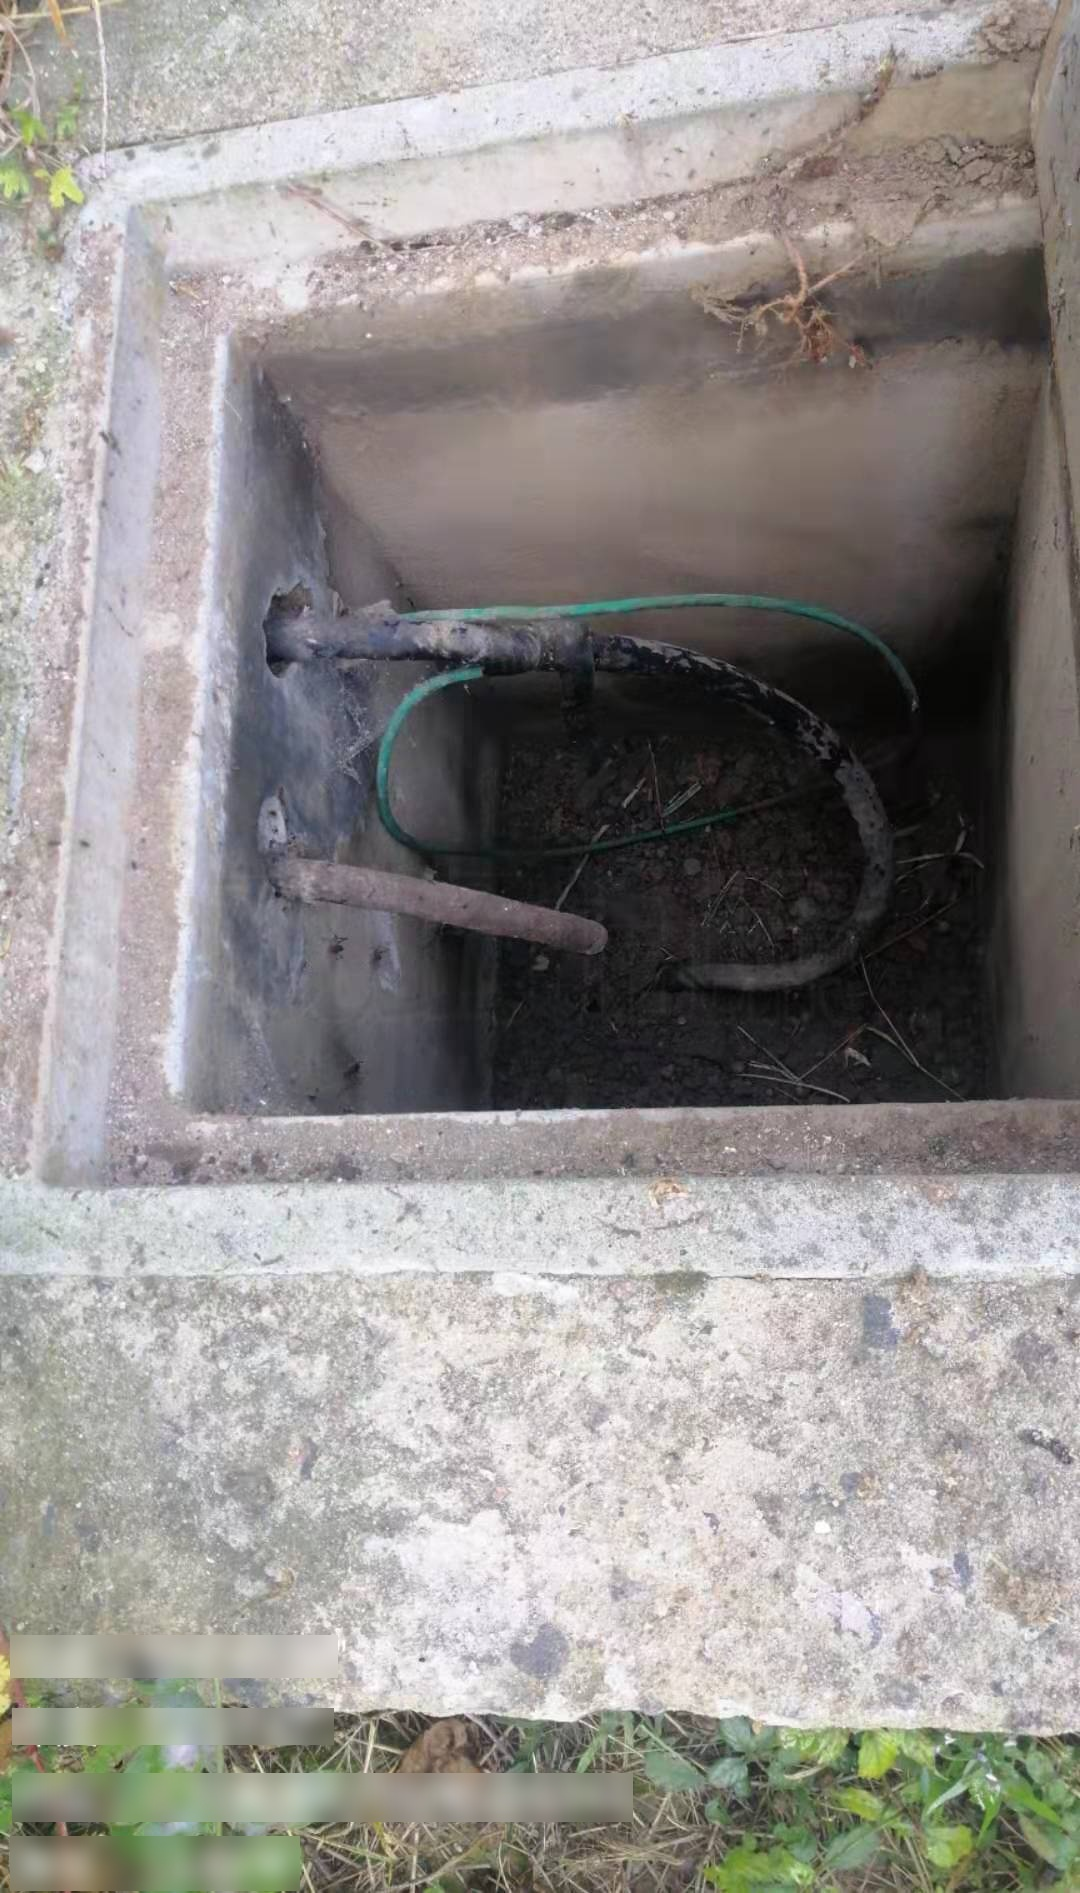well: (12, 0, 1080, 1294)
